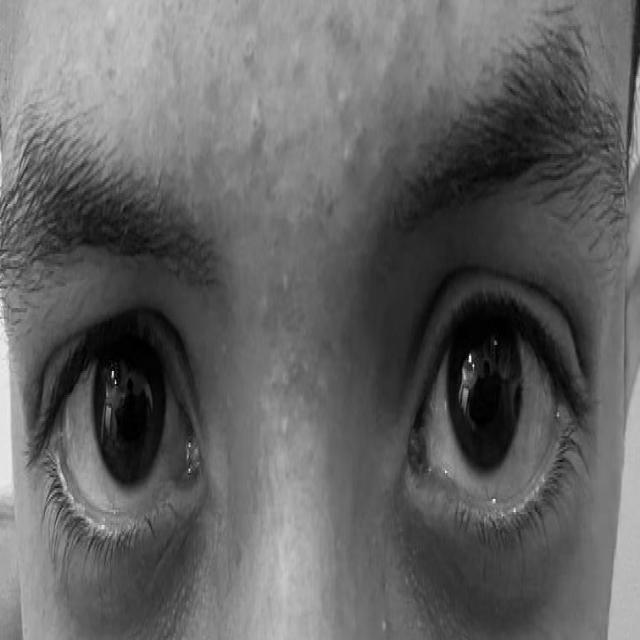real: (13, 217, 608, 610)
